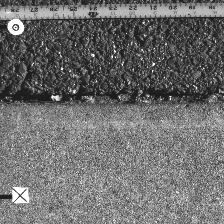circle: (7, 18, 25, 36)
crack: (1, 91, 223, 105)
square: (12, 187, 29, 203)
